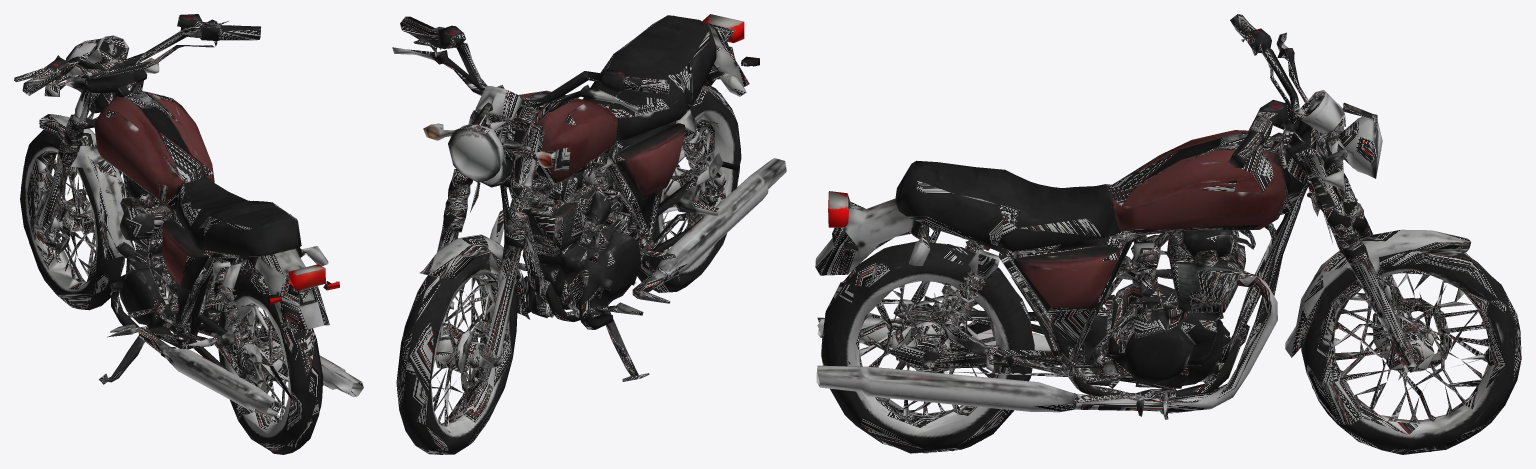
The model's file is moto-classica.glb.
3 views of the same model, side by side, from view 1: azimuth 30°, elevation 25°; view 2: azimuth 150°, elevation 25°; view 3: azimuth 270°, elevation 25° (orthographic). The views are drawn at different scales.
Visible parts, largest first — view 1: corpo, rodaD, rodaT; view 2: corpo, rodaD, rodaT; view 3: corpo, rodaD, rodaT.
Part boxes in pixels (x1=…): corpo: x1=14, y1=14, x2=363, y2=417; rodaD: x1=20, y1=115, x2=135, y2=310; rodaT: x1=181, y1=271, x2=324, y2=454; corpo: x1=392, y1=14, x2=786, y2=381; rodaD: x1=396, y1=238, x2=529, y2=454; rodaT: x1=614, y1=85, x2=784, y2=292; corpo: x1=815, y1=14, x2=1471, y2=419; rodaD: x1=1285, y1=222, x2=1521, y2=454; rodaT: x1=817, y1=240, x2=1054, y2=453.
Size of the model in its own units: 0.9865 by 1.24 by 2.08.
Materials: 1 (1 with a texture image).
